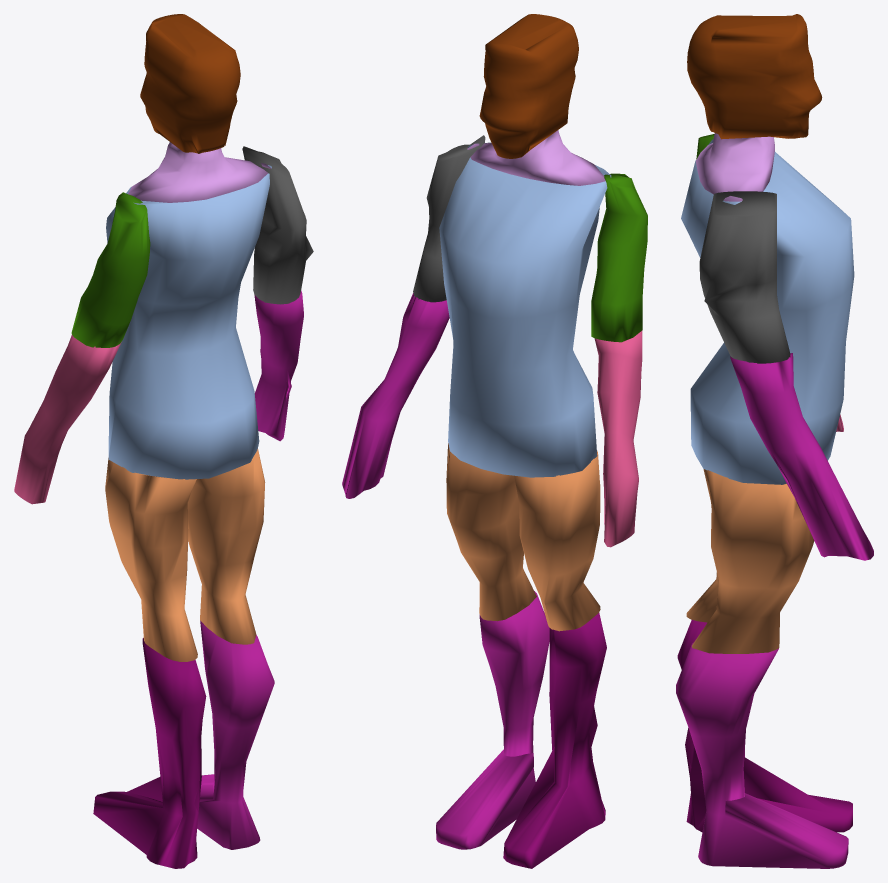
The model's file is Player.obj.
3 renders of one model, left to right at view 1: azimuth 30°, elevation 25°; view 2: azimuth 150°, elevation 25°; view 3: azimuth 270°, elevation 25°, orthographic. The views are drawn at different scales.
Visible parts, largest first — view 1: Torso, Left_Leg_Bottom, Left_Leg_Top, Head, Right_Leg_Bottom, Right_Leg_Top, Left_Arm_Top, Left_Arm_Bottom, Right_Arm_Top, Right_Arm_Bottom, Neck; view 2: Torso, Left_Leg_Bottom, Right_Leg_Bottom, Head, Left_Leg_Top, Right_Leg_Top, Right_Arm_Bottom, Left_Arm_Top, Left_Arm_Bottom, Right_Arm_Top, Neck; view 3: Torso, Right_Leg_Bottom, Right_Leg_Top, Head, Right_Arm_Top, Right_Arm_Bottom, Left_Leg_Bottom, Neck, Left_Leg_Top.
Part boxes in pixels (bbox=[...]): Torso: bbox=[106, 165, 271, 479]; Left_Leg_Bottom: bbox=[93, 638, 206, 868]; Left_Leg_Top: bbox=[105, 458, 197, 661]; Head: bbox=[140, 14, 240, 153]; Right_Leg_Bottom: bbox=[197, 620, 274, 849]; Right_Leg_Top: bbox=[187, 449, 265, 644]; Left_Arm_Top: bbox=[71, 192, 150, 347]; Left_Arm_Bottom: bbox=[14, 335, 121, 504]; Right_Arm_Top: bbox=[242, 146, 313, 304]; Right_Arm_Bottom: bbox=[254, 290, 303, 441]; Neck: bbox=[128, 142, 271, 202]; Torso: bbox=[439, 142, 611, 477]; Left_Leg_Bottom: bbox=[503, 612, 606, 868]; Right_Leg_Bottom: bbox=[436, 591, 549, 849]; Head: bbox=[479, 14, 578, 158]; Left_Leg_Top: bbox=[514, 450, 600, 631]; Right_Leg_Top: bbox=[446, 443, 536, 621]; Right_Arm_Bottom: bbox=[342, 293, 449, 498]; Left_Arm_Top: bbox=[591, 173, 647, 342]; Left_Arm_Bottom: bbox=[594, 331, 642, 547]; Right_Arm_Top: bbox=[413, 135, 485, 302]; Neck: bbox=[467, 130, 605, 185]; Torso: bbox=[681, 139, 854, 484]; Right_Leg_Bottom: bbox=[676, 642, 848, 868]; Right_Leg_Top: bbox=[692, 469, 814, 653]; Head: bbox=[687, 14, 822, 139]; Right_Arm_Top: bbox=[699, 191, 790, 363]; Right_Arm_Bottom: bbox=[730, 353, 873, 560]; Left_Leg_Bottom: bbox=[677, 620, 852, 832]; Neck: bbox=[695, 133, 774, 201]; Left_Leg_Top: bbox=[686, 572, 718, 622].
Size of the model in its own units: 37.86 by 105 by 22.98.
